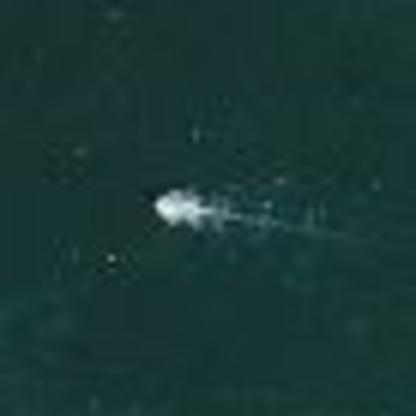ship: (147, 184, 211, 234)
